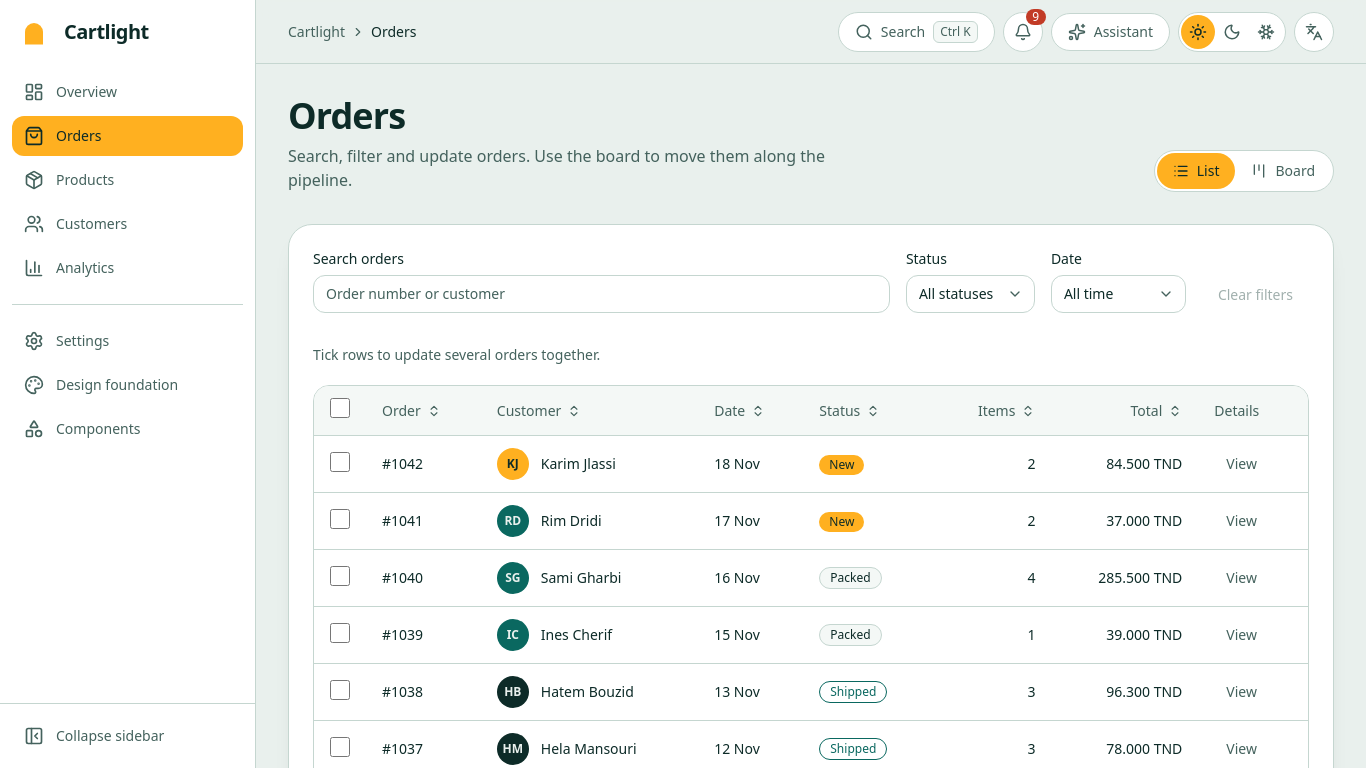
Scenario: orders page › changes the status of the selected orders together
The width and height of the screenshot is (1366, 768).
What coordinates should you click on to do the following:
click the checkbox named "Select order #1042"
I would click on:
 (340, 462)
Its box is [330,452,350,472].
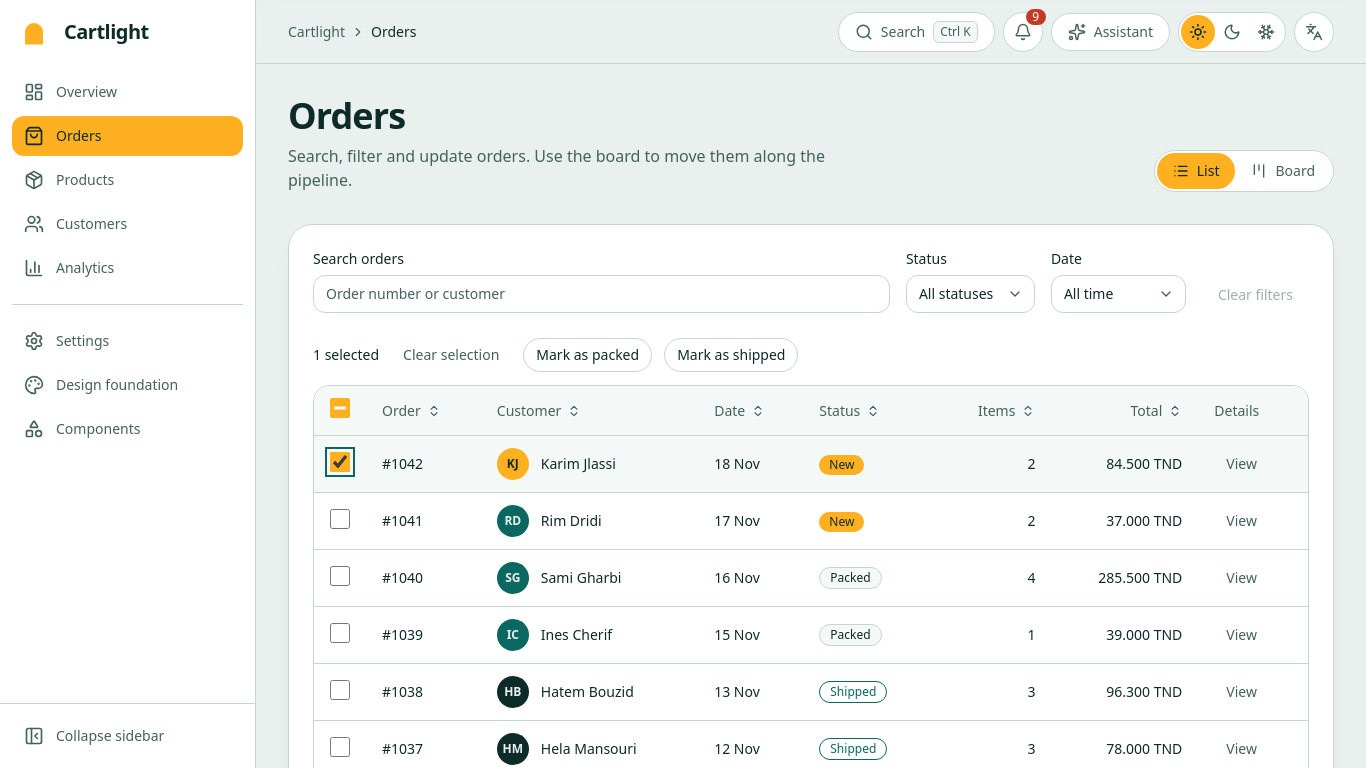
What coordinates should you click on to do the following:
click the checkbox named "Select order #1041"
I would click on:
 (340, 518)
Its box is [330,508,350,528].
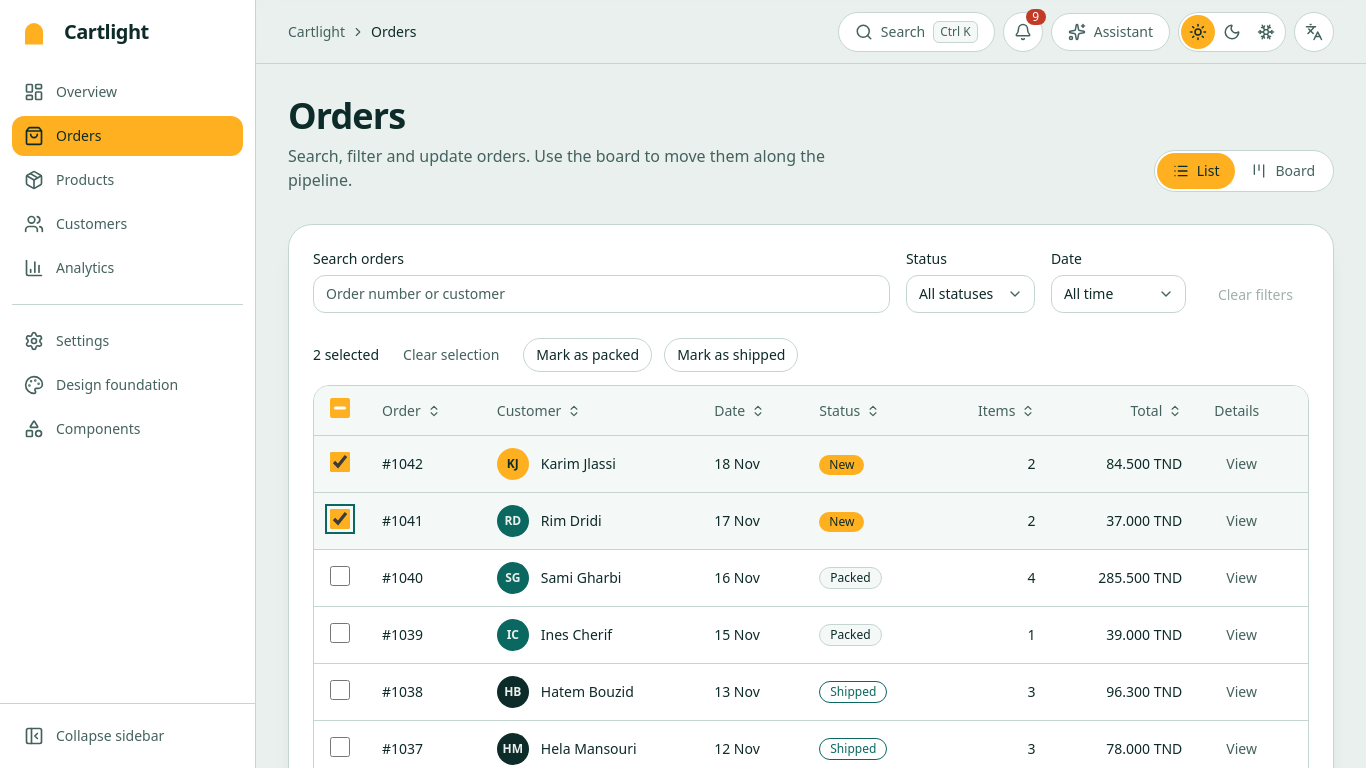
Check: the text "2 selected" is shown, box [313,345,379,365]
What coordinates should you click on to do the following:
click the button "Mark as shipped"
I would click on:
 (731, 355)
Its box is [664,338,798,372].
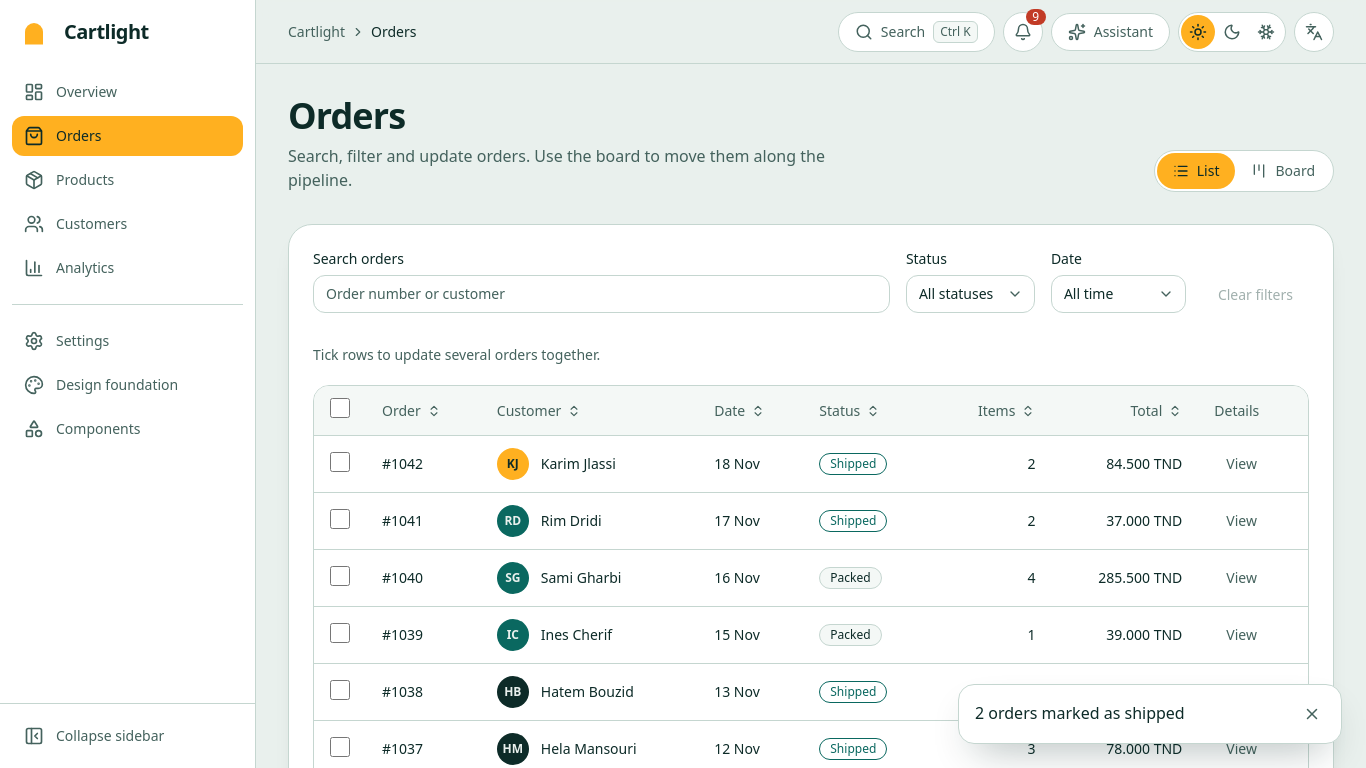
Check: the message reads "2 orders marked as shipped", box [975,702,1185,724]
Check: the text "Shipped" in the row of "#1042" is shown, box [830,455,876,472]
Check: the text "2 selected" is gone
